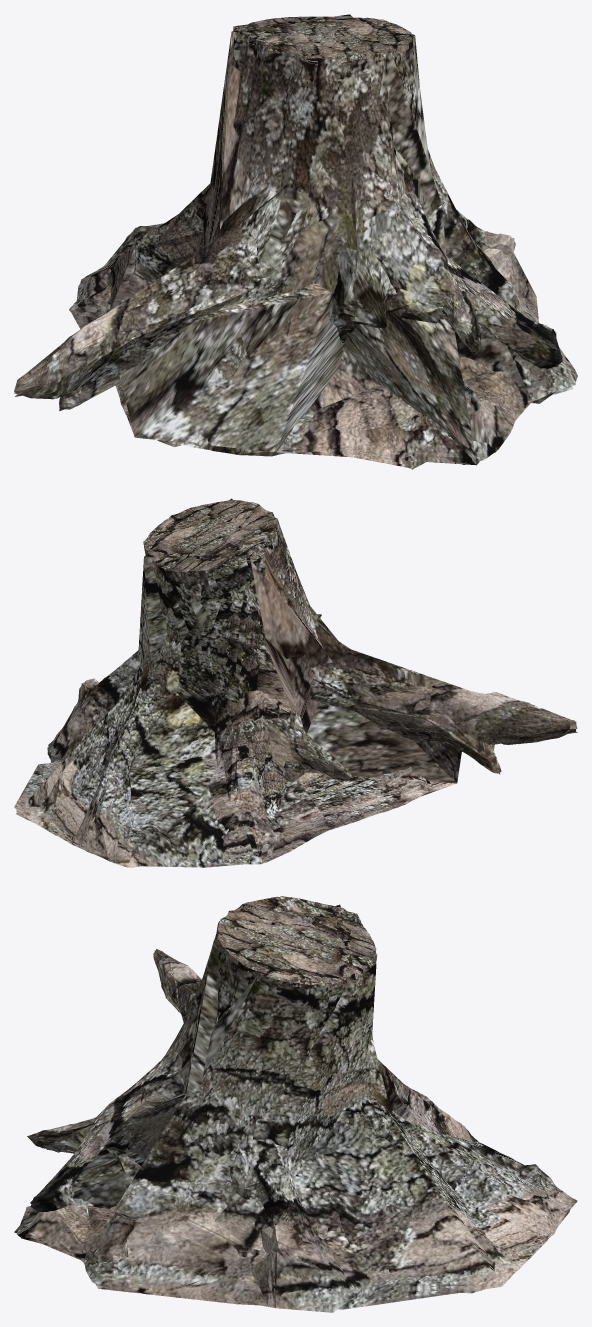
File: Stump9.obj
3 renders of one model, top to bottom at view 1: azimuth 30°, elevation 25°; view 2: azimuth 150°, elevation 25°; view 3: azimuth 270°, elevation 25°, orthographic. The views are drawn at different scales.
Visible parts, largest first — view 1: default; view 2: default; view 3: default.
Boxes of the visible parts, box(x1,y1,x2,y2) form: default: box(14, 14, 577, 469); default: box(14, 498, 577, 867); default: box(14, 896, 577, 1312).
Size of the model in its own units: 401 by 218 by 361.
Materials: 1 (1 with a texture image).
